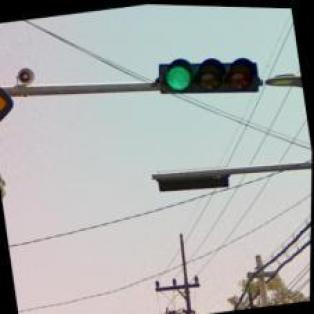Semaforo Verde: (152, 46, 263, 110)
